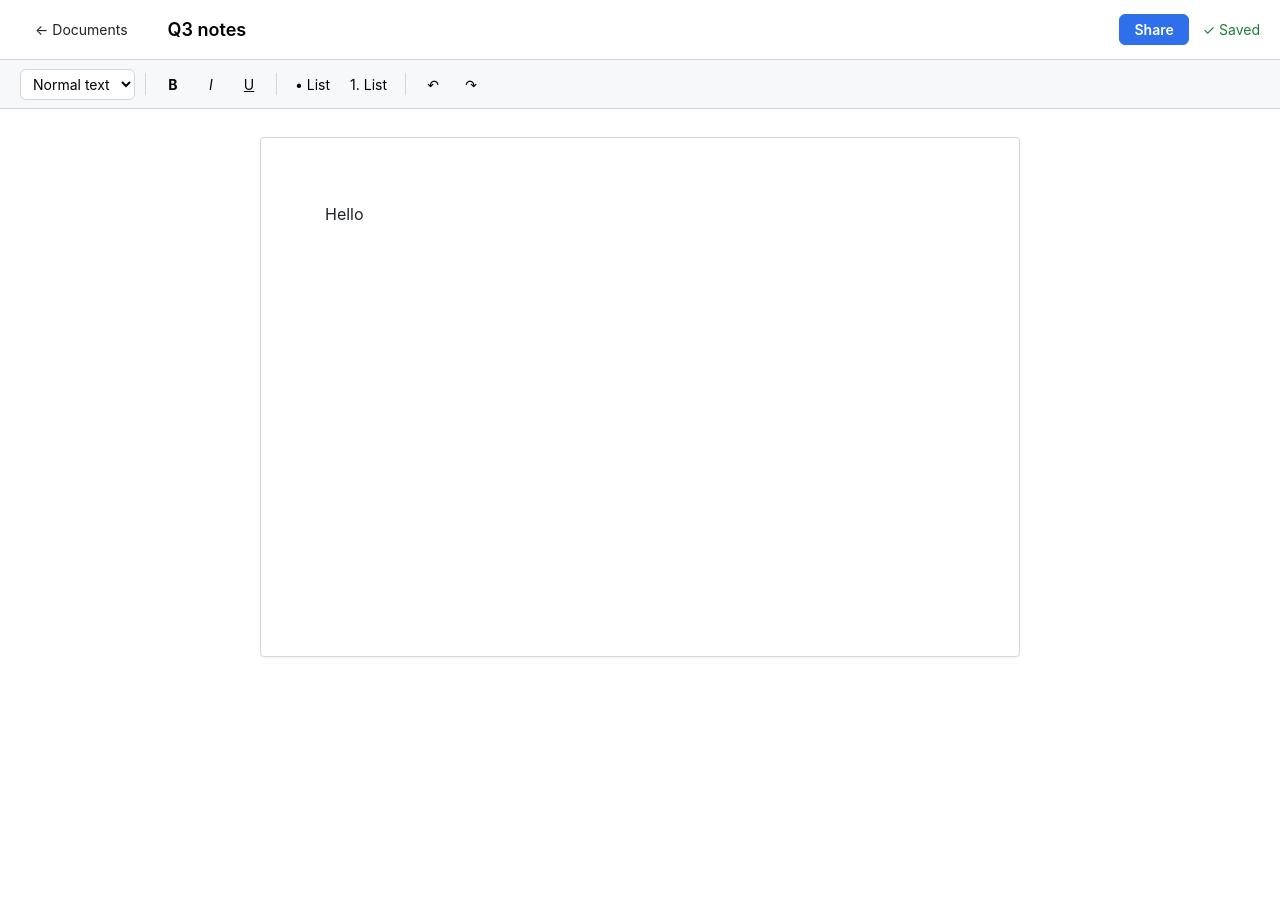
Test: sharing in the editor › lists the owner and everyone with access, and offers only people without access
Click the button "Share": [1154, 30] box [1120, 14, 1189, 45]
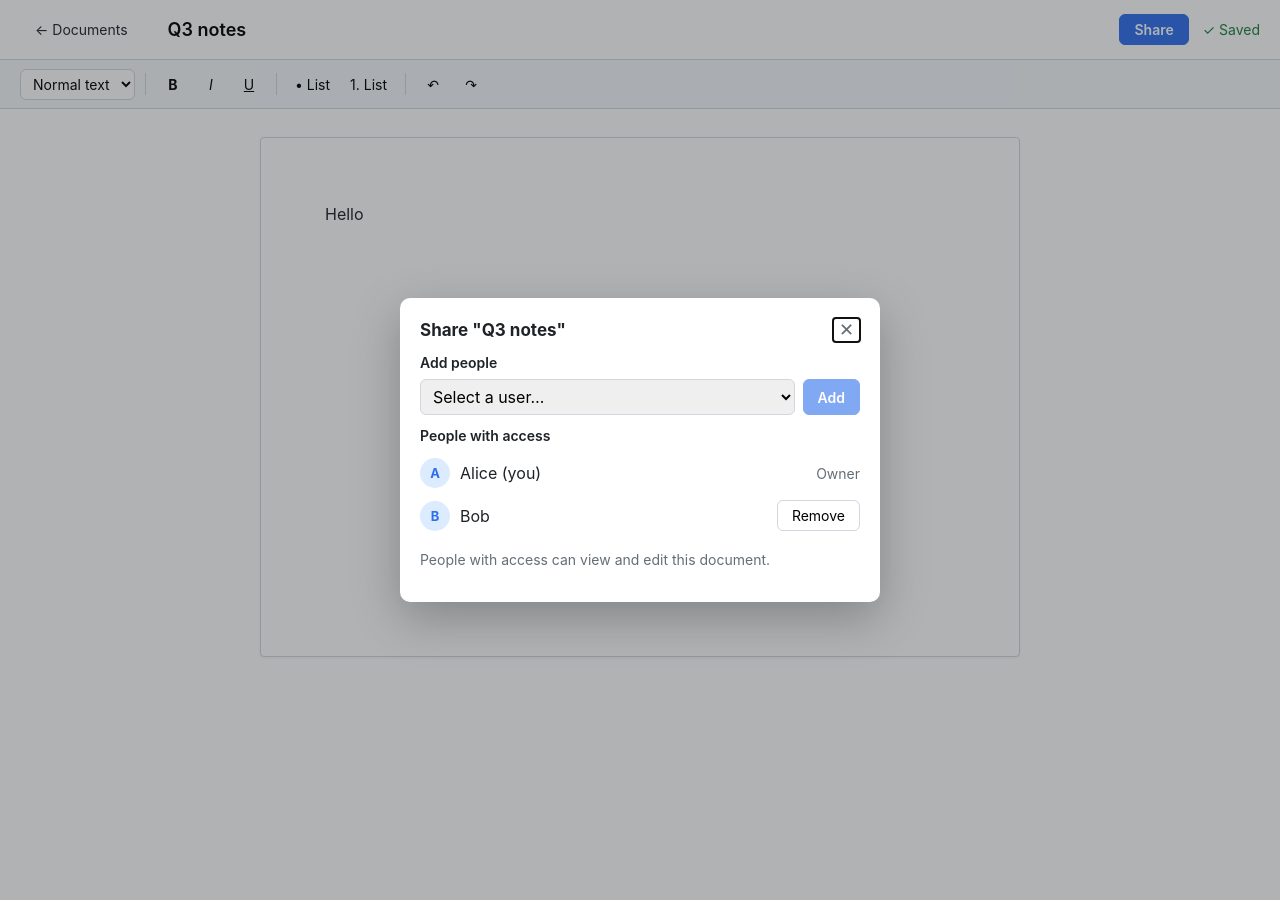
Result: the dialog shows "Share \"Q3 notes\"" at [400, 298, 880, 602]
Result: the list named "People with access" shows "Alice (you)" at [420, 452, 860, 537]
Result: the list named "People with access" shows "Owner" at [816, 464, 860, 482]
